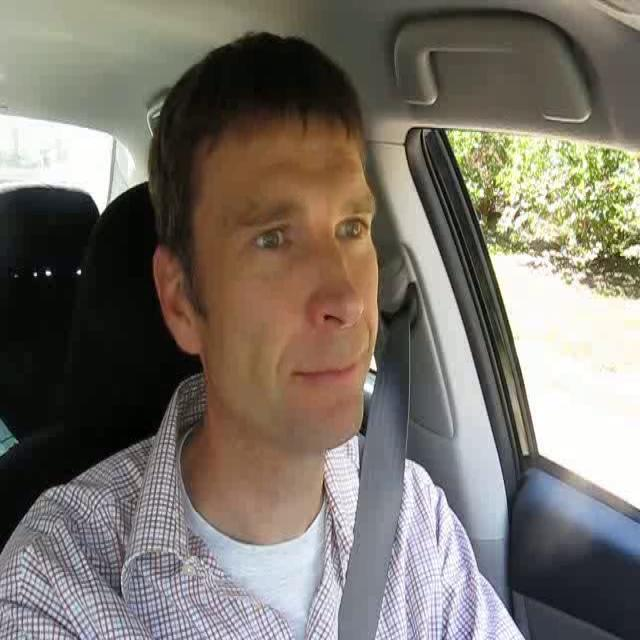close: (287, 348, 375, 396)
